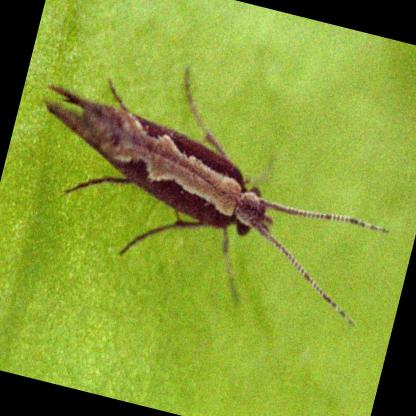plutella: (35, 62, 407, 333)
